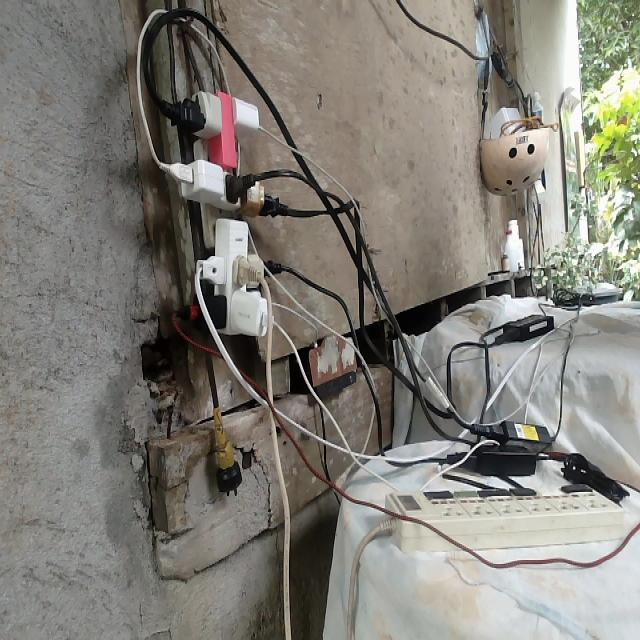-: (157, 87, 287, 340)
